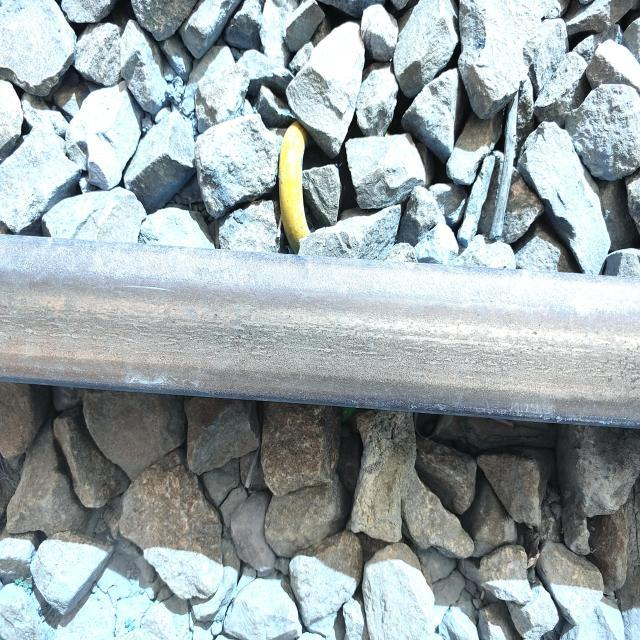Good Fasteners: (279, 121, 310, 253)
